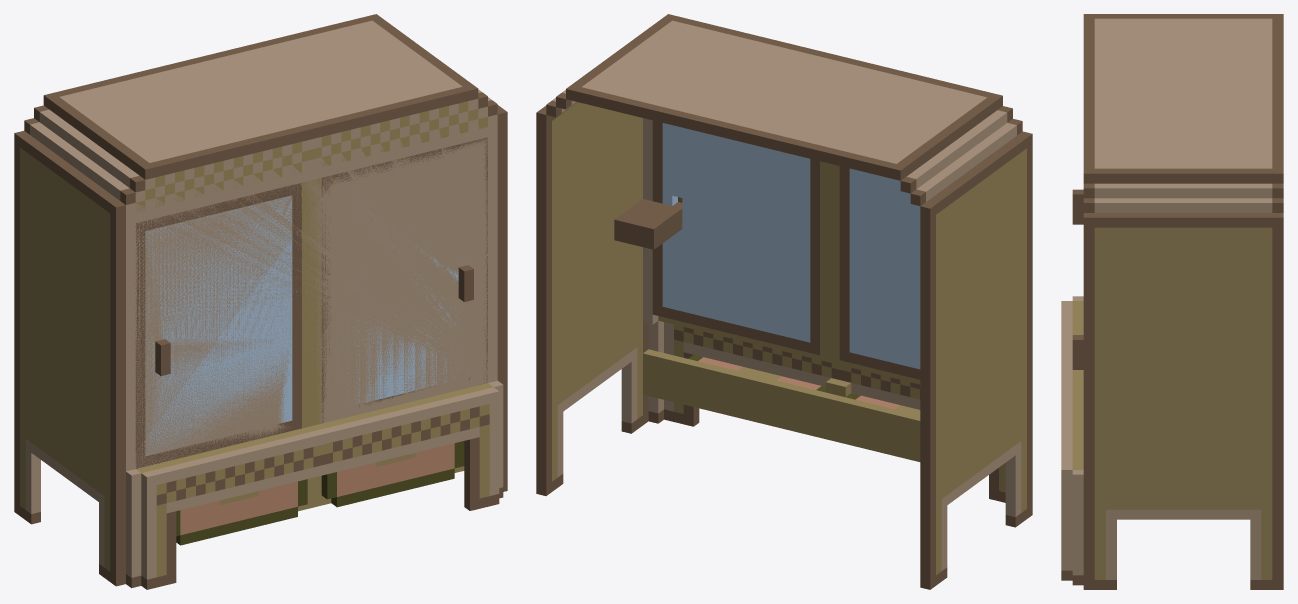
Rendered from Schrank01.fbx.
The picture shows the model from 3 angles, left to right: view 1: azimuth 30°, elevation 25°; view 2: azimuth 150°, elevation 25°; view 3: azimuth 270°, elevation 25°; orthographic projection. The views are drawn at different scales.
Visible parts, largest first — view 1: Schrank01; view 2: Schrank01; view 3: Schrank01.
Part boxes in pixels (x1=…): Schrank01: x1=14, y1=14, x2=507, y2=589; Schrank01: x1=536, y1=14, x2=1032, y2=589; Schrank01: x1=1061, y1=14, x2=1283, y2=589.
Bounding box in the file's own units: 250 × 250 × 125.
